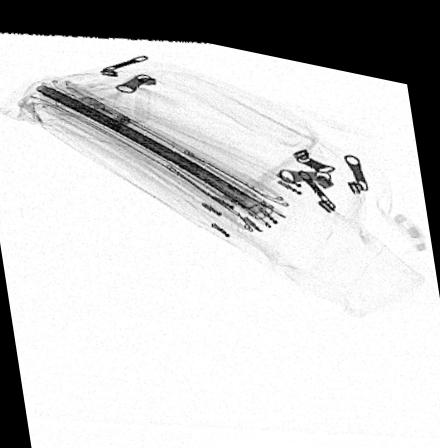Lighter: (135, 70, 158, 116)
